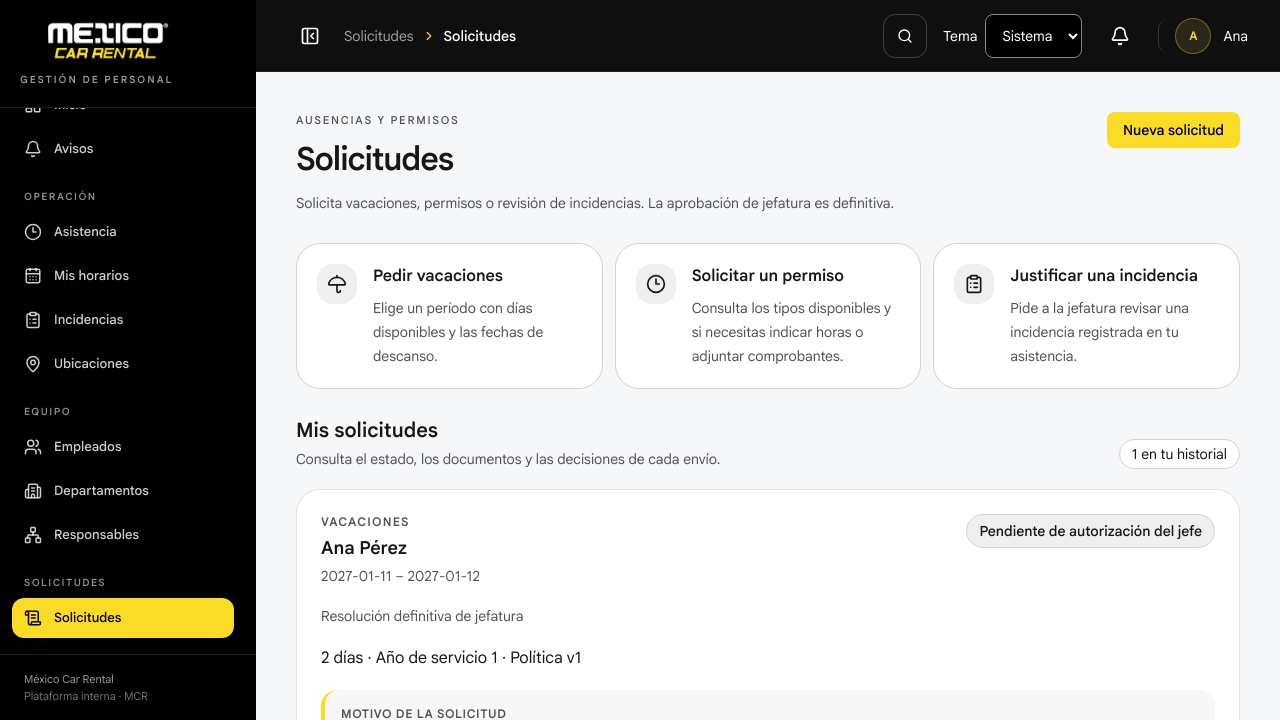
Scenario: closes a reverted request draft without asking to discard unchanged values
This screenshot has width=1280, height=720.
(page scrolled)
Click the button "Nueva solicitud": (1174, 130) [1107,112,1240,148]
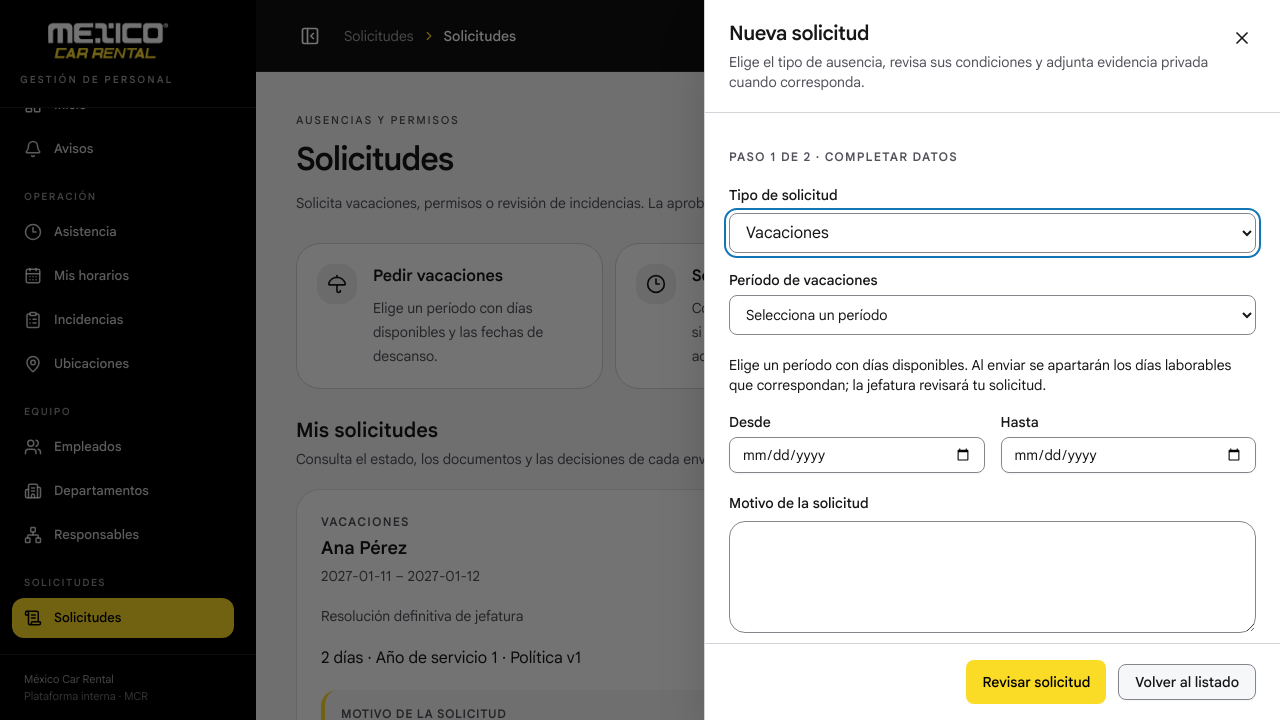
In the text box labelled "Motivo de la solicitud": (992, 577) [729,521,1256,633], type "Temporal"
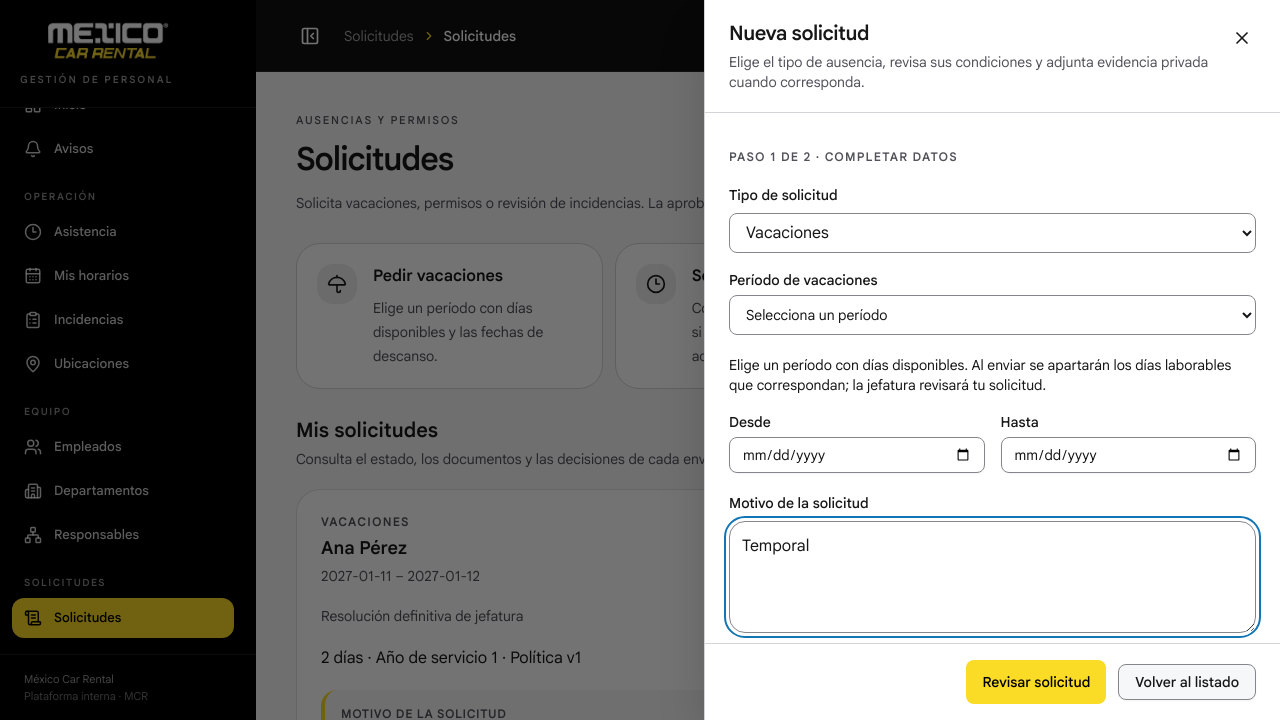
Clear the text box labelled "Motivo de la solicitud": (992, 577) [729,521,1256,633]
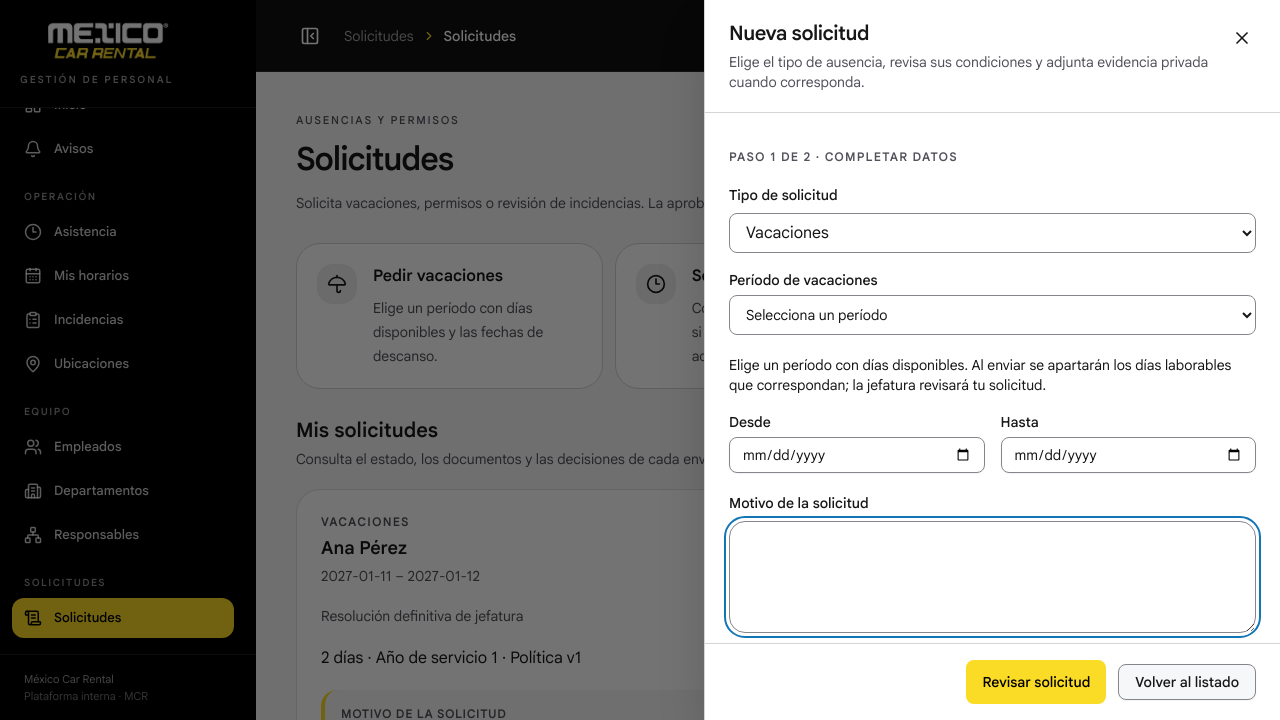
Click the button named "Cerrar panel": (1242, 38) [1220,16,1264,60]
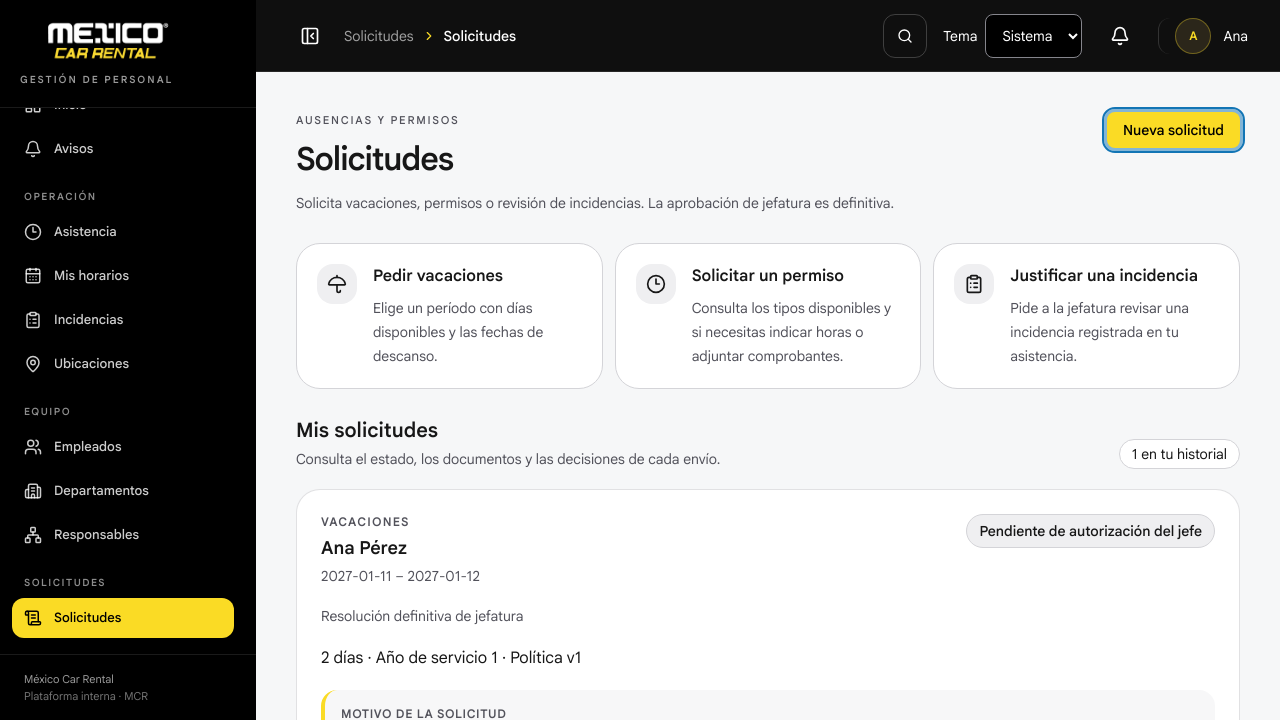
Now the dialog is gone
